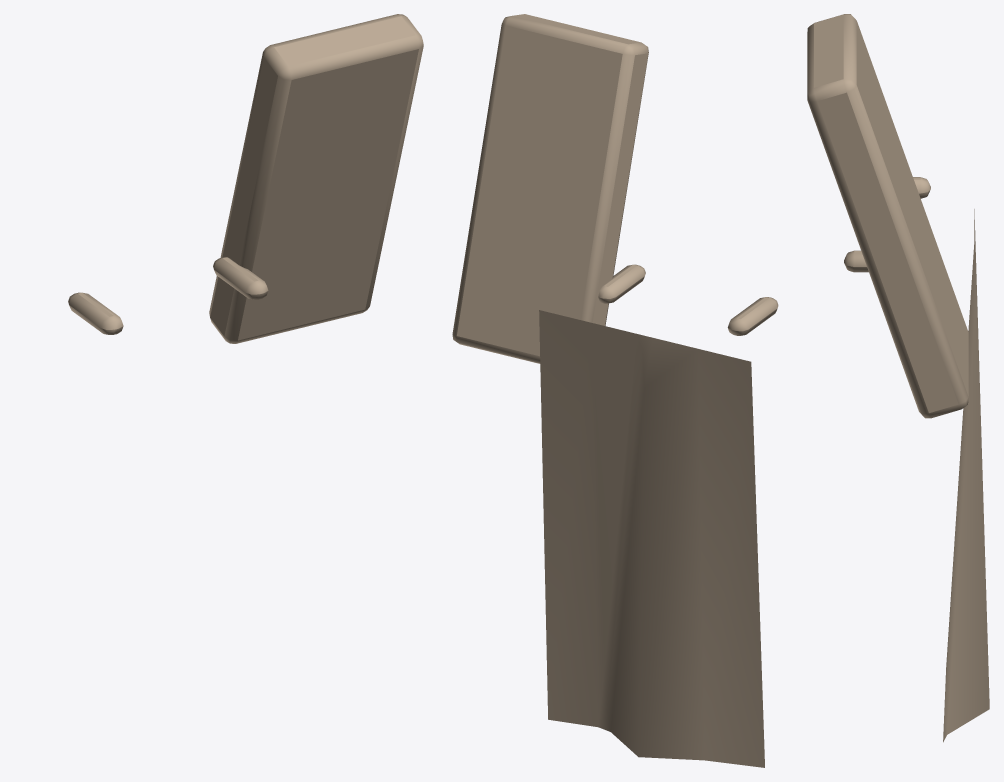
The model's file is MocDongPhuc.glb.
The picture shows the model from 3 angles, left to right: view 1: azimuth 30°, elevation 25°; view 2: azimuth 150°, elevation 25°; view 3: azimuth 270°, elevation 25°; orthographic projection. The views are drawn at different scales.
Parts seen in each view (by area): view 1: geometry_0; view 2: geometry_0; view 3: geometry_0.
Part boxes in pixels (box(x1,y1,x2,y2)): geometry_0: box(68, 14, 423, 343); geometry_0: box(452, 14, 778, 767); geometry_0: box(807, 14, 989, 742).
Bounding box in the file's own units: 0.23 × 0.4666 × 0.105.
